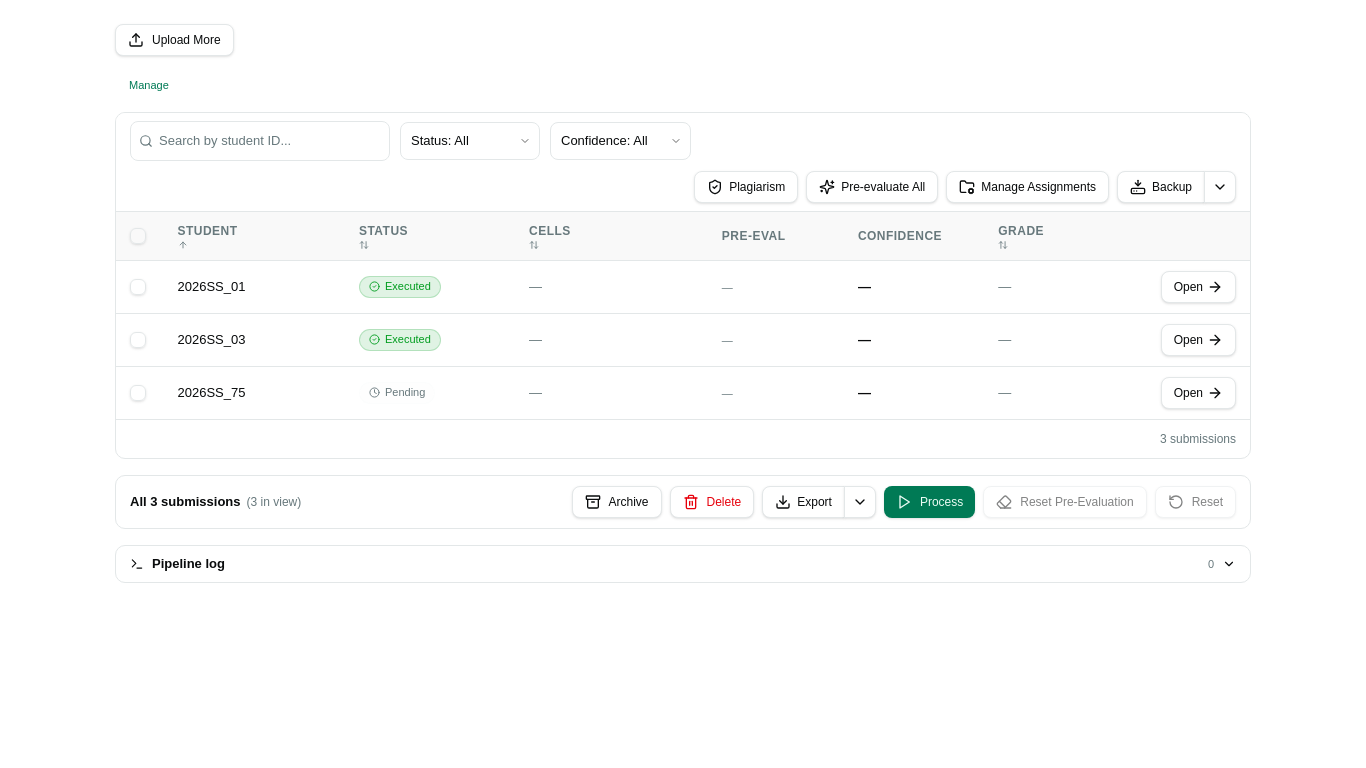
submissions dashboard — table refresh after mutations › removes a deleted row from the table without a page reload
Expected: the link "2026SS_01" is shown, [178,279,246,294]
Click the checkbox named "Select 2026SS_03" at (138, 340), box [130,332,146,348]
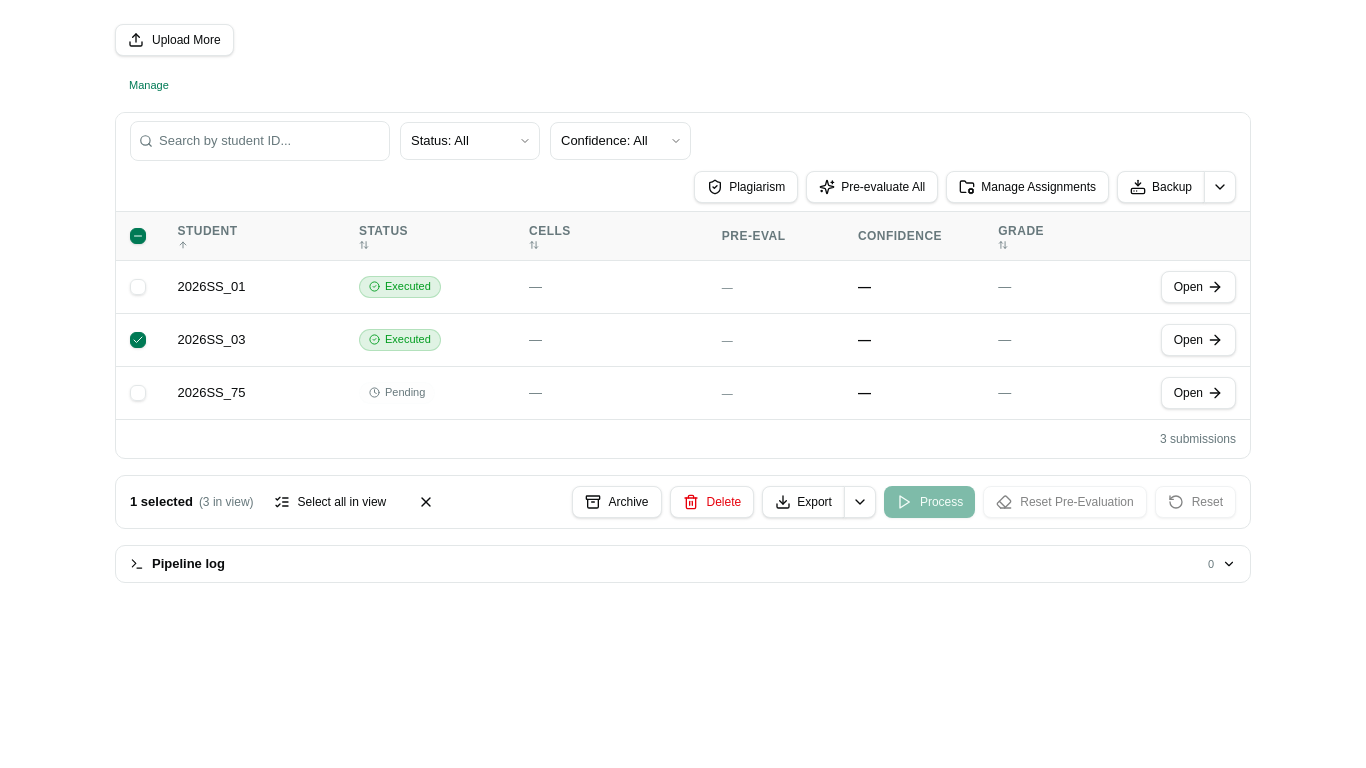
Click the button "Delete" at (712, 502), box [670,486,754,518]
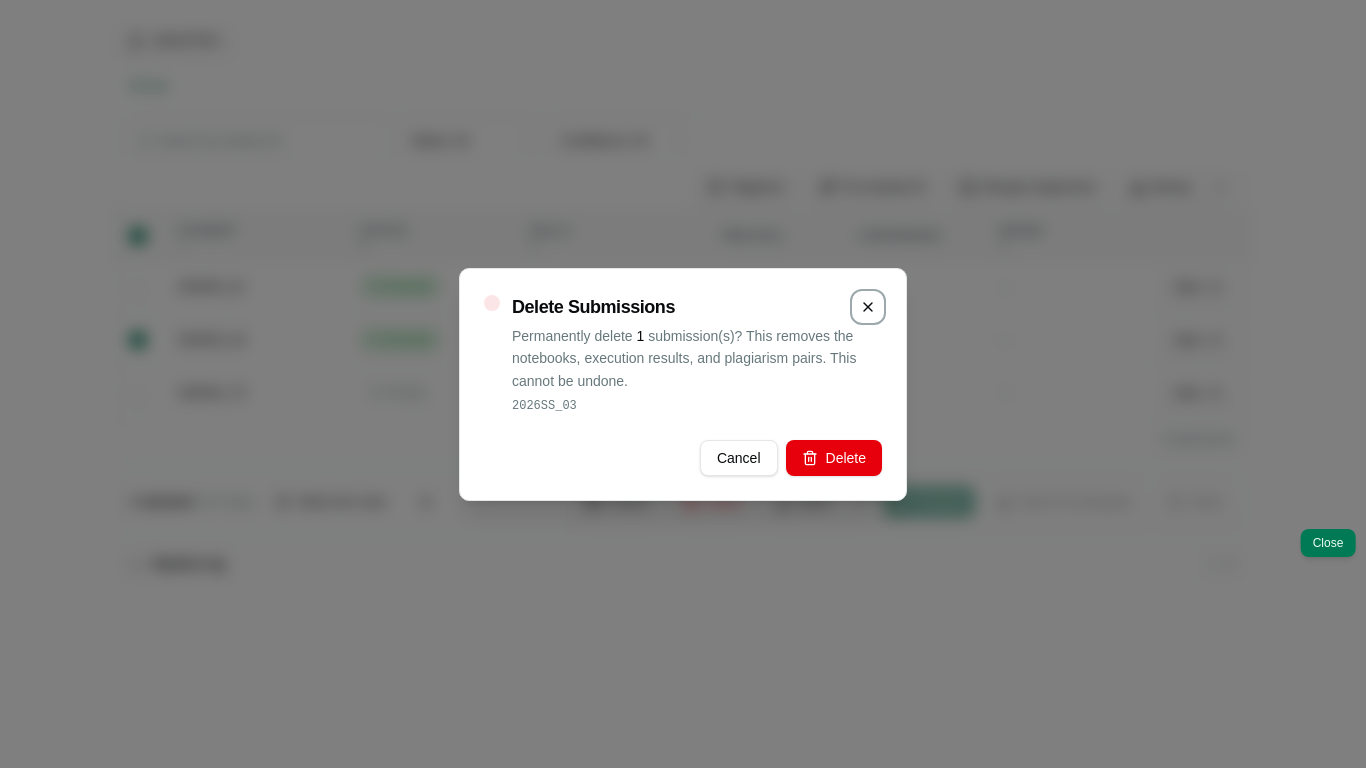
Expected: the heading "Delete Submissions" is shown, [512,292,675,320]
Click the button "Delete" at (834, 458), box [786,440,882,476]
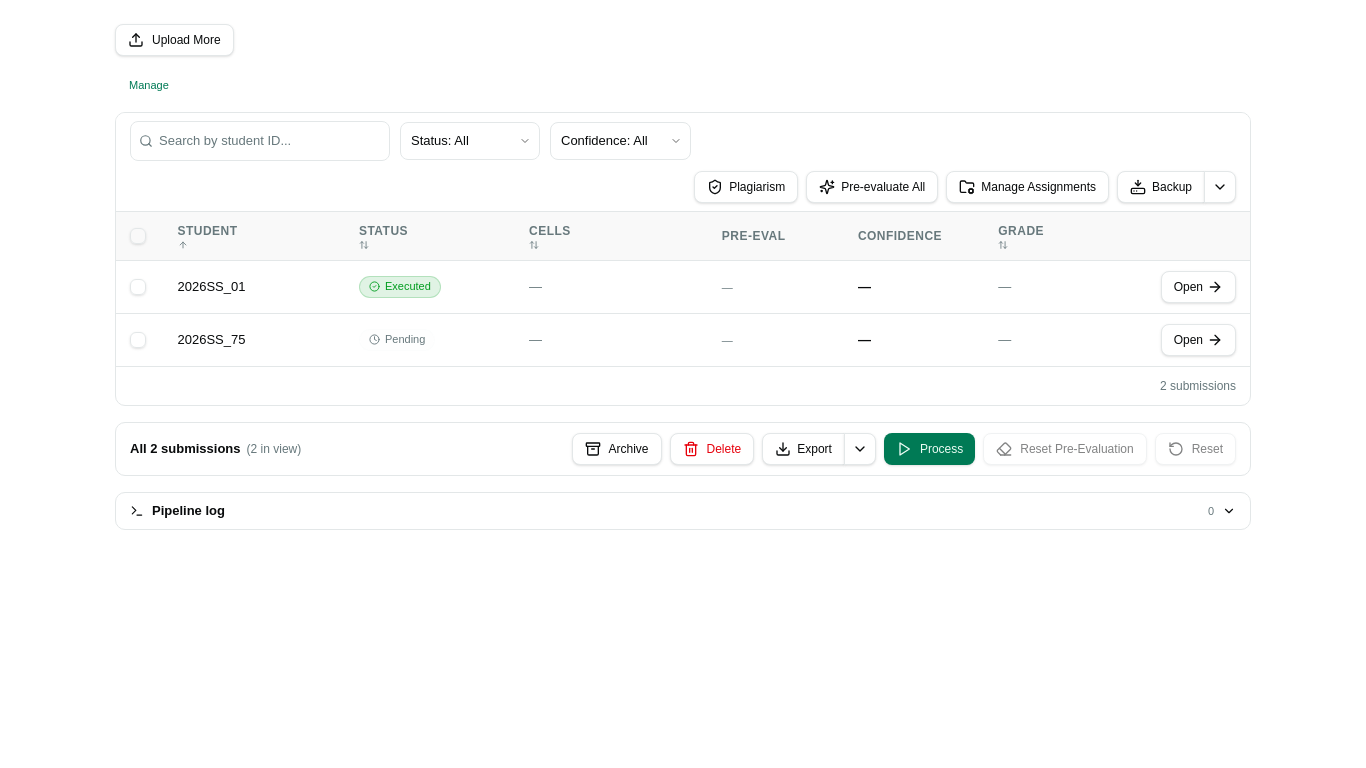
Expected: the link "2026SS_01" is shown, [178,279,246,294]
Expected: the link "2026SS_03" is gone
